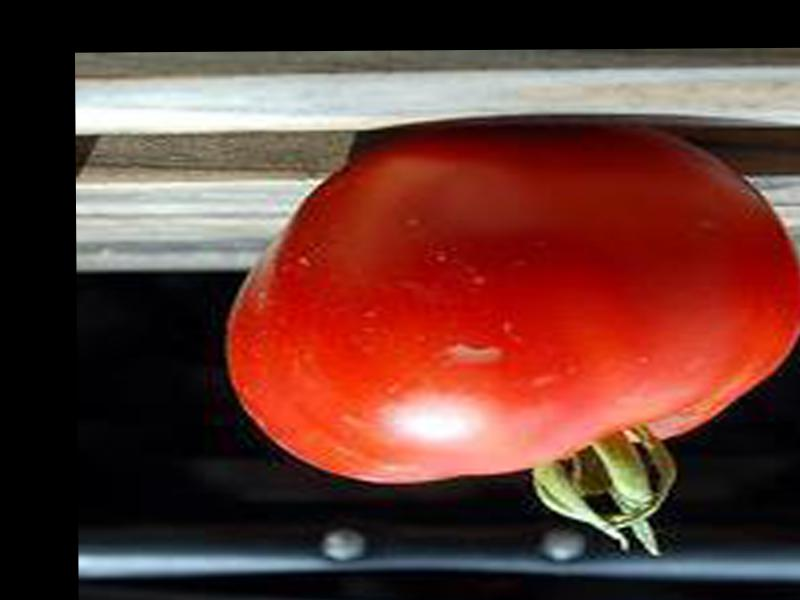Tomato: (226, 129, 800, 554)
